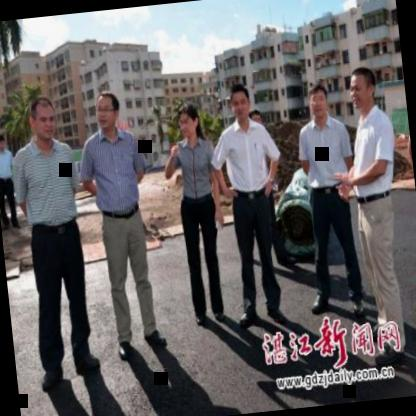head: (24, 91, 61, 144), (346, 62, 381, 114), (93, 86, 123, 135), (225, 80, 255, 126), (304, 78, 332, 124), (175, 98, 203, 142), (0, 131, 9, 155)
